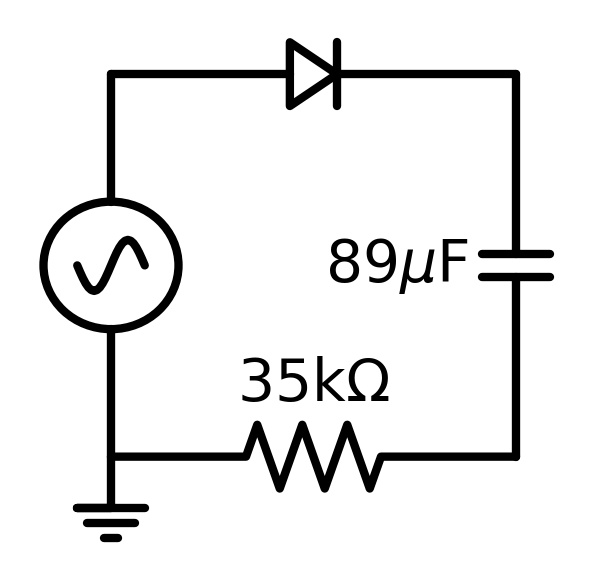capacitor: (472, 235, 561, 298)
diode: (271, 29, 354, 125)
ground: (68, 492, 155, 551)
resistor: (234, 416, 394, 500)
sourceac: (34, 189, 188, 339)
